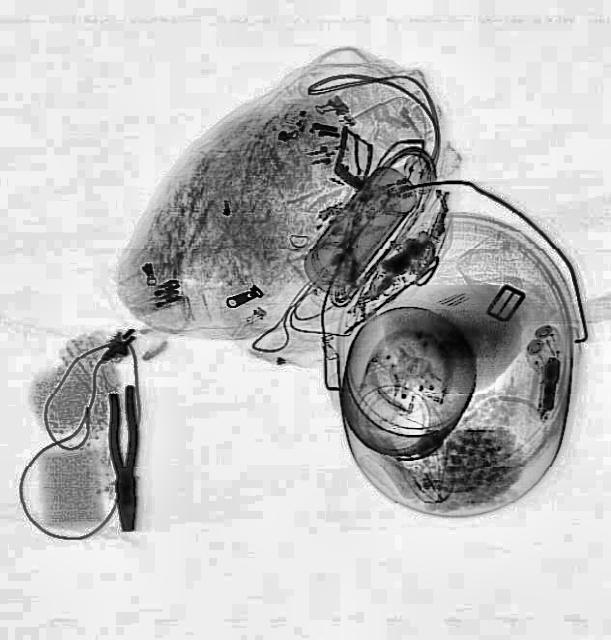Pliers: (106, 384, 142, 532)
